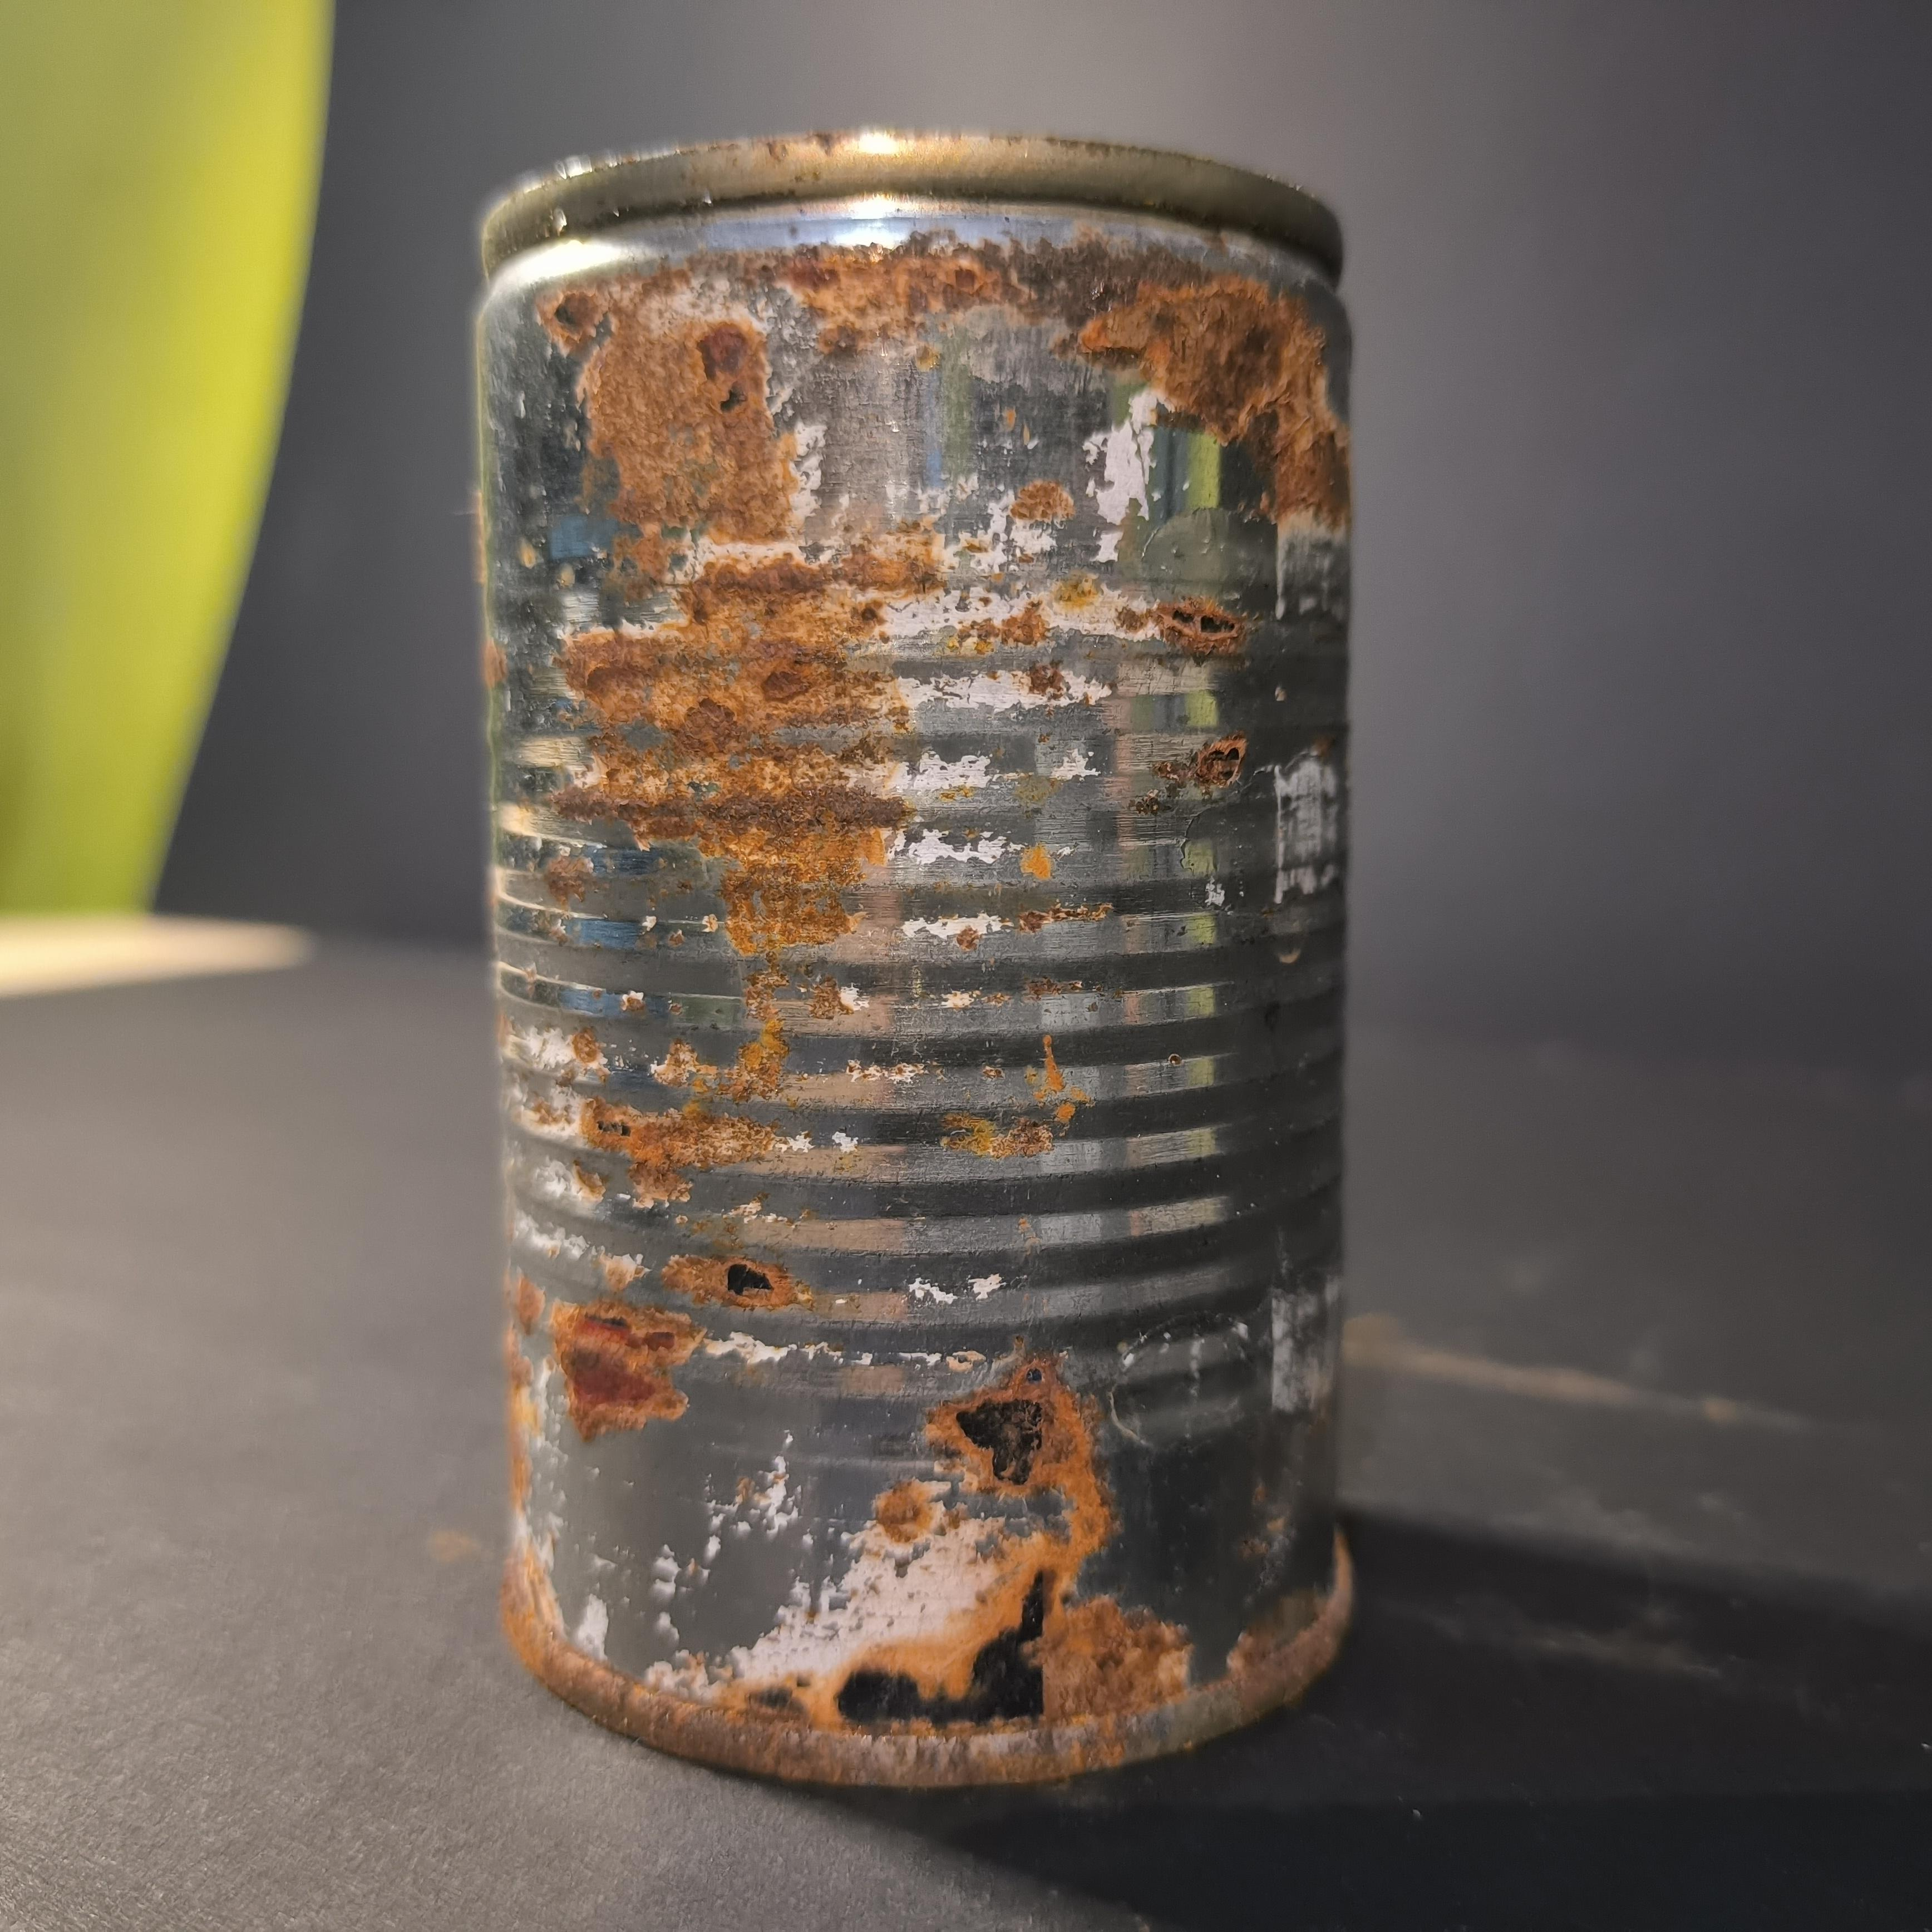Rusted: (453, 117, 1375, 1787)
